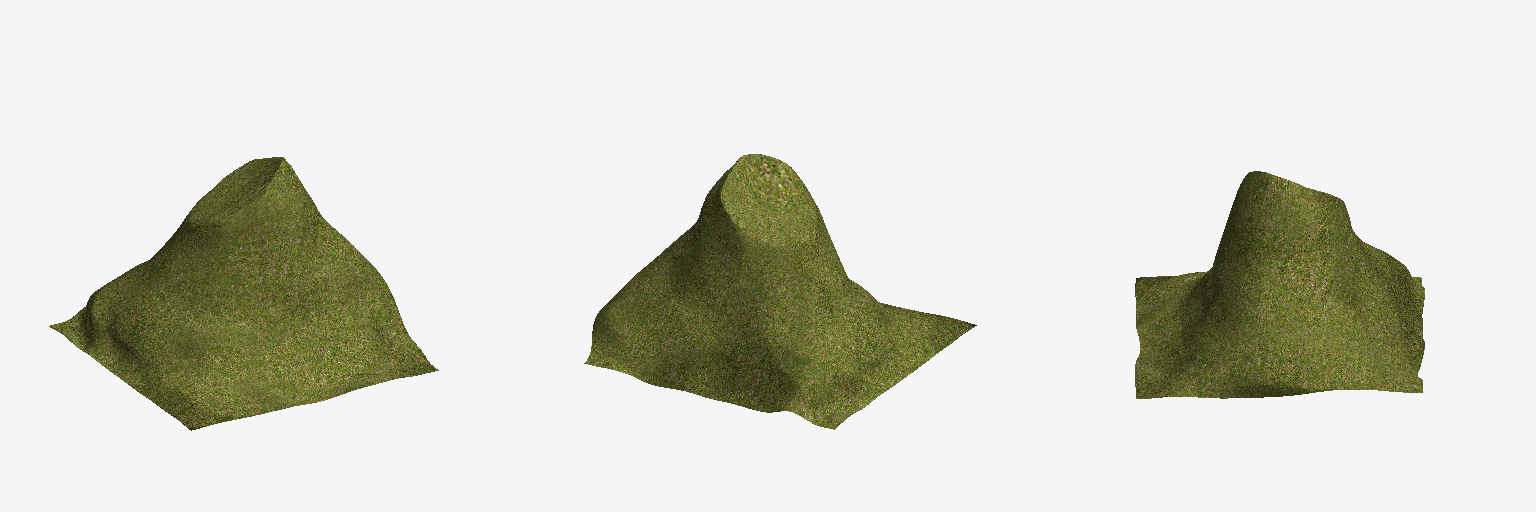
The picture shows the model from 3 angles: view 1: azimuth 30°, elevation 25°; view 2: azimuth 150°, elevation 25°; view 3: azimuth 270°, elevation 25°; orthographic projection.
Parts seen in each view (by area): view 1: Landscape; view 2: Landscape; view 3: Landscape.
Boxes of the visible parts, x1=… form: Landscape: x1=49, y1=157, x2=438, y2=430; Landscape: x1=584, y1=154, x2=976, y2=429; Landscape: x1=1135, y1=171, x2=1424, y2=398.
Bounding box in the file's own units: 254 × 163 × 230.
1 materials, 1 textured.